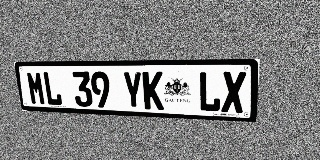3: (72, 71, 93, 107)
9: (90, 71, 111, 108)
K: (142, 71, 164, 110)
L: (198, 71, 221, 112), (42, 71, 63, 106)
M: (26, 71, 46, 105)
X: (221, 71, 246, 113)
Y: (122, 71, 143, 109)
